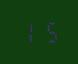five: (39, 19, 58, 43)
one: (19, 20, 38, 44)
